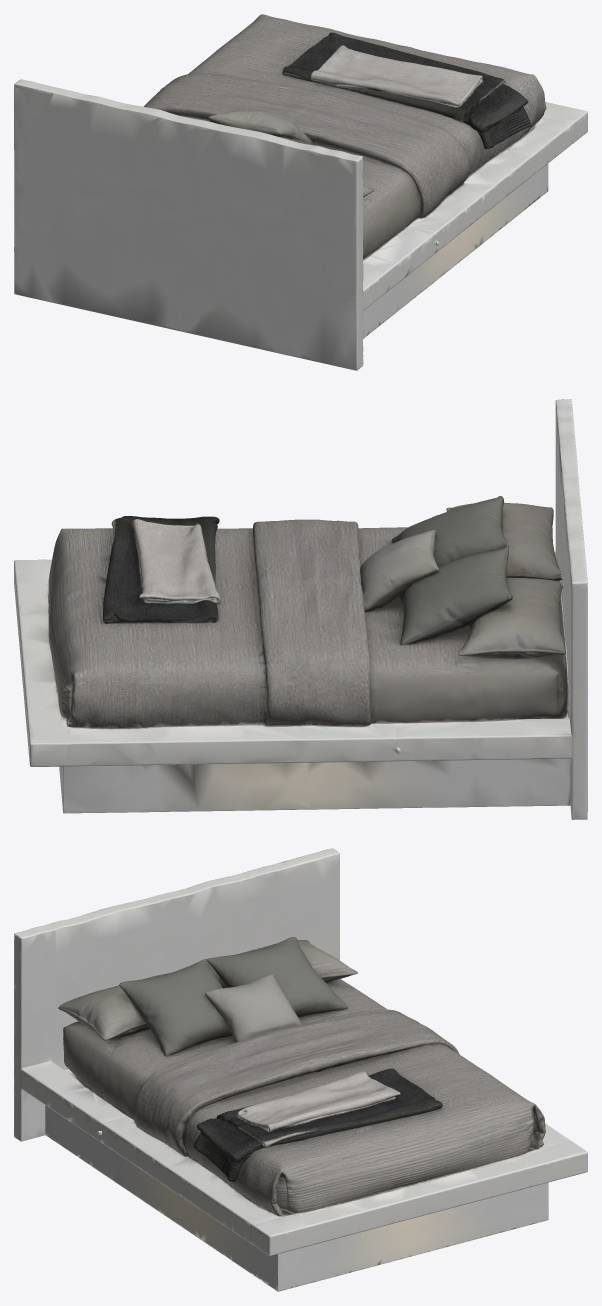
File: caravanafurniture-com-products-white-finish-platform-bed-w-b-3dc50c.glb
3 renders of one model, top to bottom at view 1: azimuth 30°, elevation 25°; view 2: azimuth 150°, elevation 25°; view 3: azimuth 270°, elevation 25°, orthographic. The views are drawn at different scales.
Parts seen in each view (by area): view 1: tripo_node_00a1311e-fe8c-4af2-b261-49044073f7cf; view 2: tripo_node_00a1311e-fe8c-4af2-b261-49044073f7cf; view 3: tripo_node_00a1311e-fe8c-4af2-b261-49044073f7cf.
Part boxes in pixels (box(x1,y1,x2,y2)): tripo_node_00a1311e-fe8c-4af2-b261-49044073f7cf: box(14, 14, 587, 370); tripo_node_00a1311e-fe8c-4af2-b261-49044073f7cf: box(14, 399, 587, 819); tripo_node_00a1311e-fe8c-4af2-b261-49044073f7cf: box(14, 848, 587, 1291).
Size of the model in its own units: 1.26 by 0.4696 by 1.19.
1 material, 1 textured.
